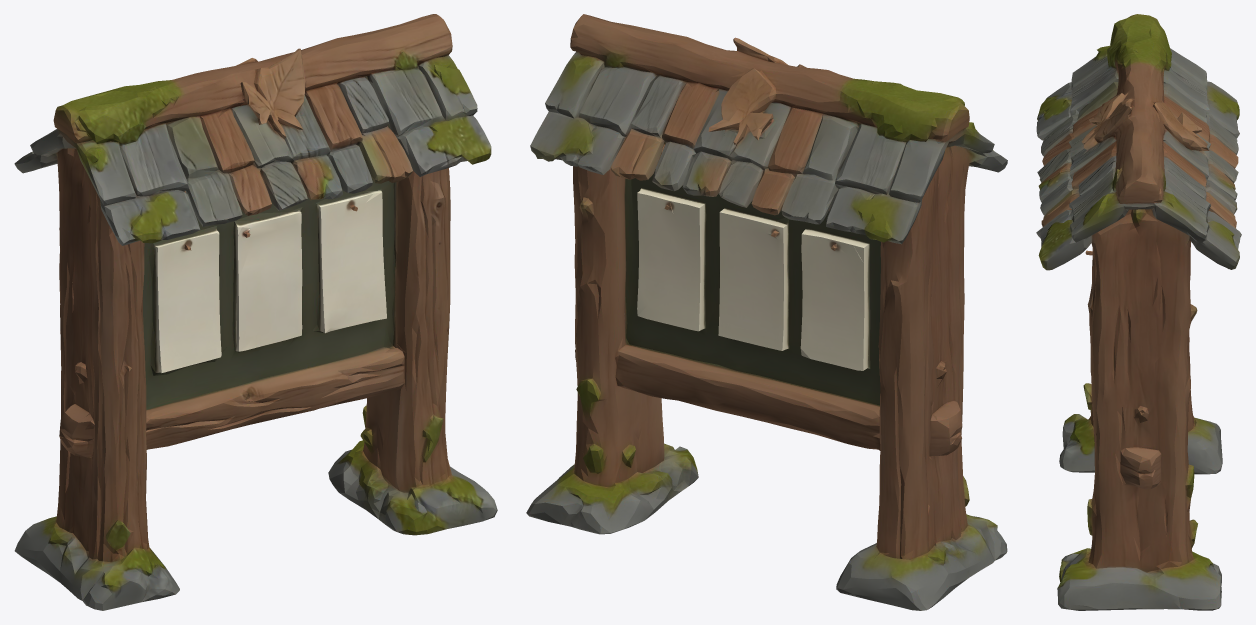
3 views of the same model, side by side, from view 1: azimuth 30°, elevation 25°; view 2: azimuth 150°, elevation 25°; view 3: azimuth 270°, elevation 25° (orthographic). The views are drawn at different scales.
Visible parts, largest first — view 1: Mesh; view 2: Mesh; view 3: Mesh.
Boxes of the visible parts, x1=… form: Mesh: x1=14, y1=14, x2=497, y2=610; Mesh: x1=526, y1=14, x2=1007, y2=610; Mesh: x1=1036, y1=14, x2=1241, y2=610.
Size of the model in its own units: 1.67 by 1.89 by 0.813.
1 material, 1 textured.
